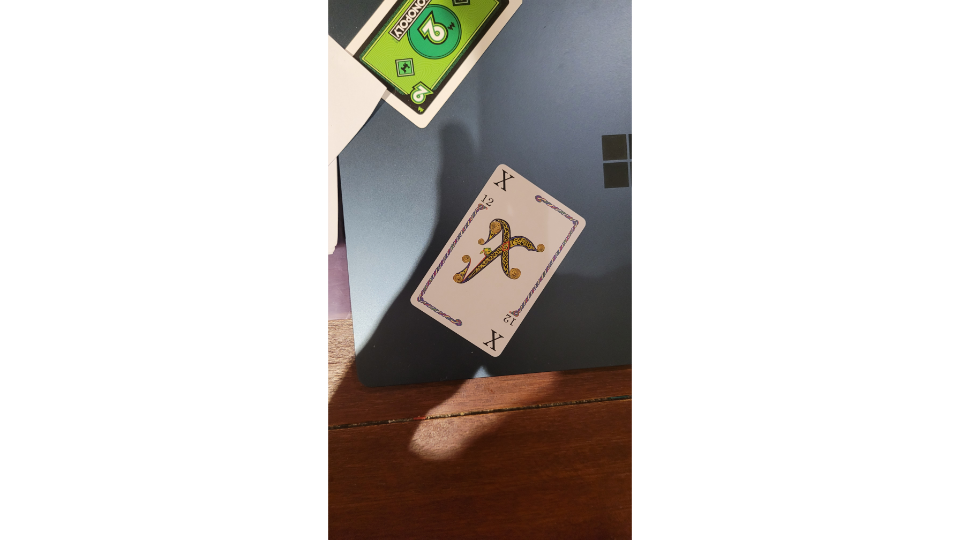X: (408, 161, 589, 362)
